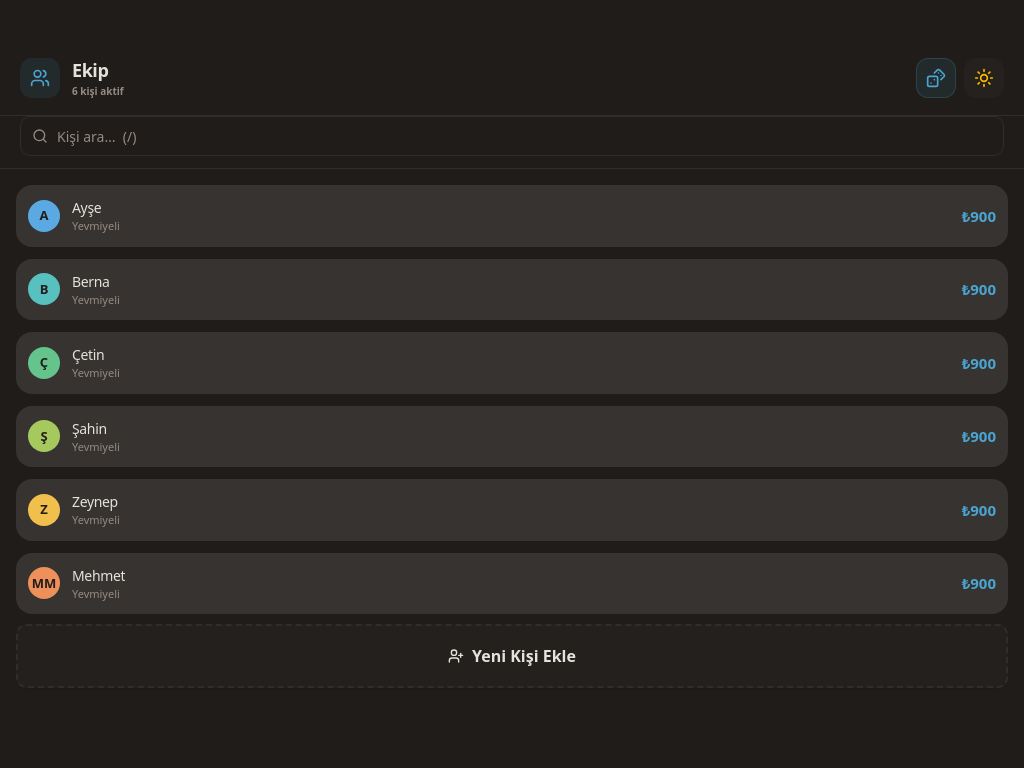
Test: WorkersScreen — arama › sonuç sayısını gösterir
The image size is (1024, 768).
"e" geçenler: Ayşe, Berna, Çetin, Zeynep, Mehmet. "Şahin"de "e" yok.
Type "e" into the search field labelled "Kişi ara" at (512, 136), box top-left (20, 116), bottom-right (1004, 156)
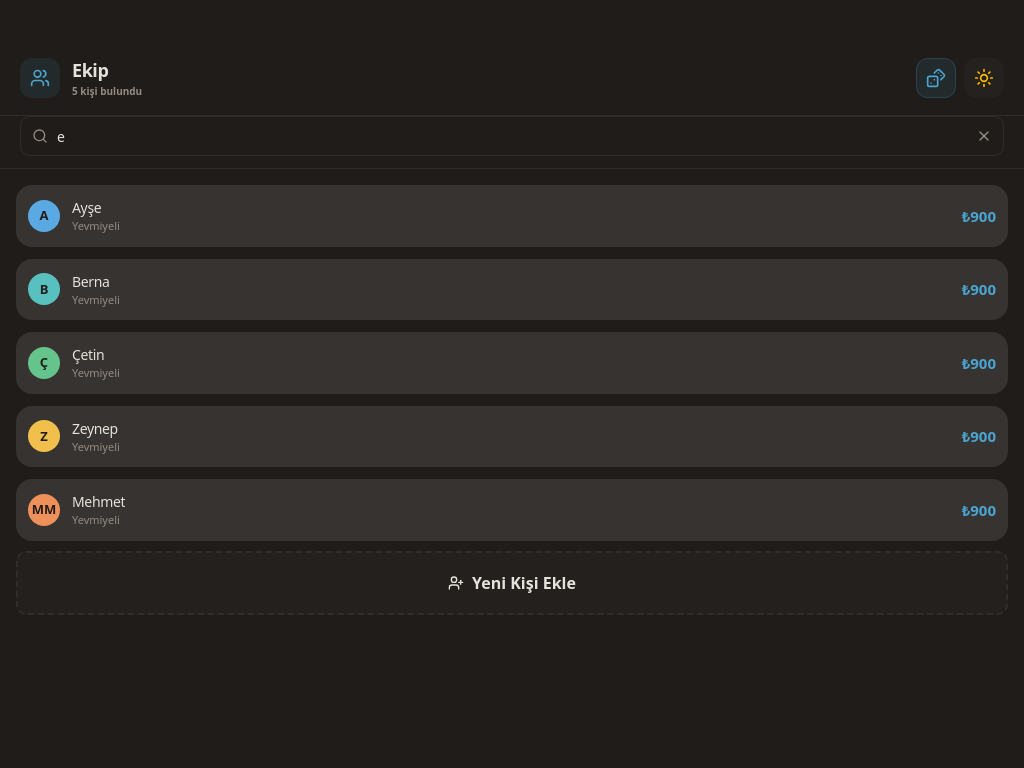
Now the text "5 kişi bulundu" is shown, box top-left (72, 84), bottom-right (142, 99)
